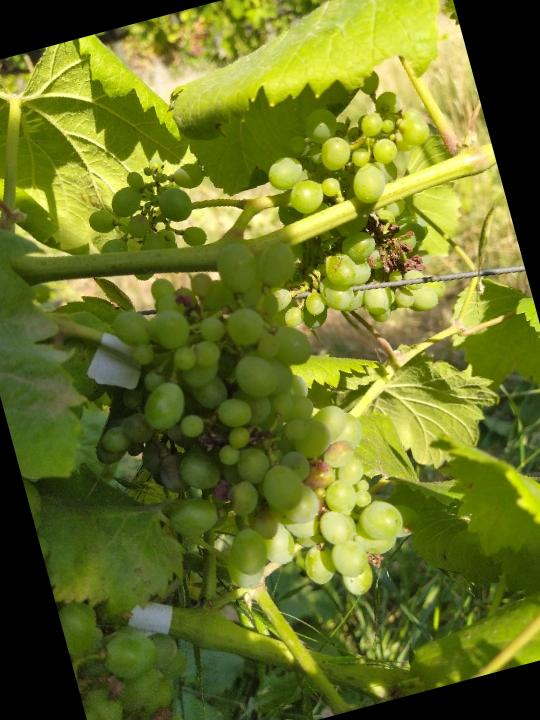grape: (51, 217, 425, 657), (246, 57, 476, 344), (76, 150, 227, 294)
